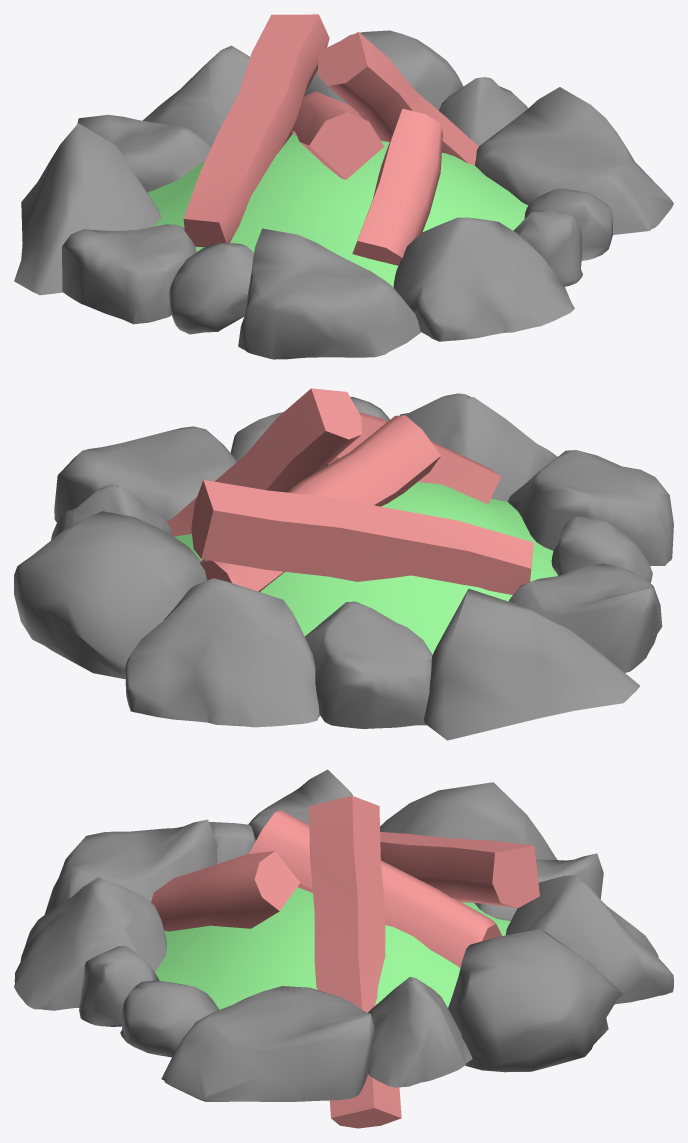
The model's file is Woods_FirePit.gltf.
The picture shows the model from 3 angles, top to bottom: view 1: azimuth 30°, elevation 25°; view 2: azimuth 150°, elevation 25°; view 3: azimuth 270°, elevation 25°; orthographic projection. The views are drawn at different scales.
Visible parts, largest first — view 1: Woods_FirePit; view 2: Woods_FirePit; view 3: Woods_FirePit.
Boxes of the visible parts, x1=… form: Woods_FirePit: x1=14, y1=14, x2=673, y2=359; Woods_FirePit: x1=14, y1=388, x2=673, y2=740; Woods_FirePit: x1=14, y1=769, x2=673, y2=1128.
Size of the model in its own units: 10.14 by 4.35 by 10.07.
